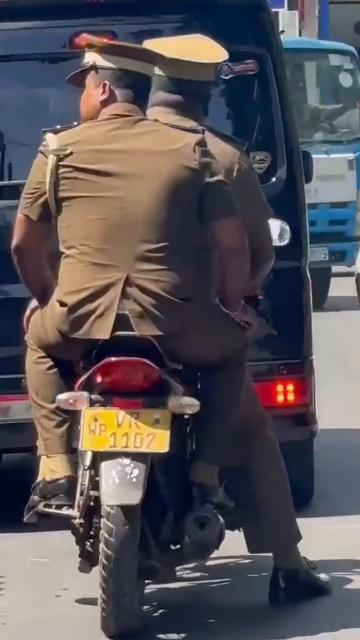no helmet: (66, 34, 157, 137), (159, 23, 225, 142)
number plate: (79, 395, 175, 457)
